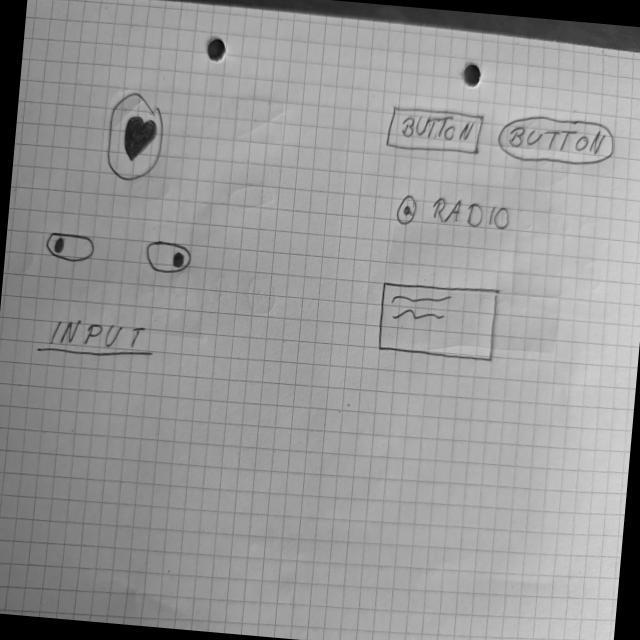button: (494, 112, 618, 172), (385, 103, 486, 160)
icon-button: (102, 89, 172, 187)
input: (37, 313, 158, 365)
radio: (396, 193, 513, 236)
textarea: (376, 275, 503, 368)
toggle: (143, 237, 197, 279), (42, 229, 97, 267)
